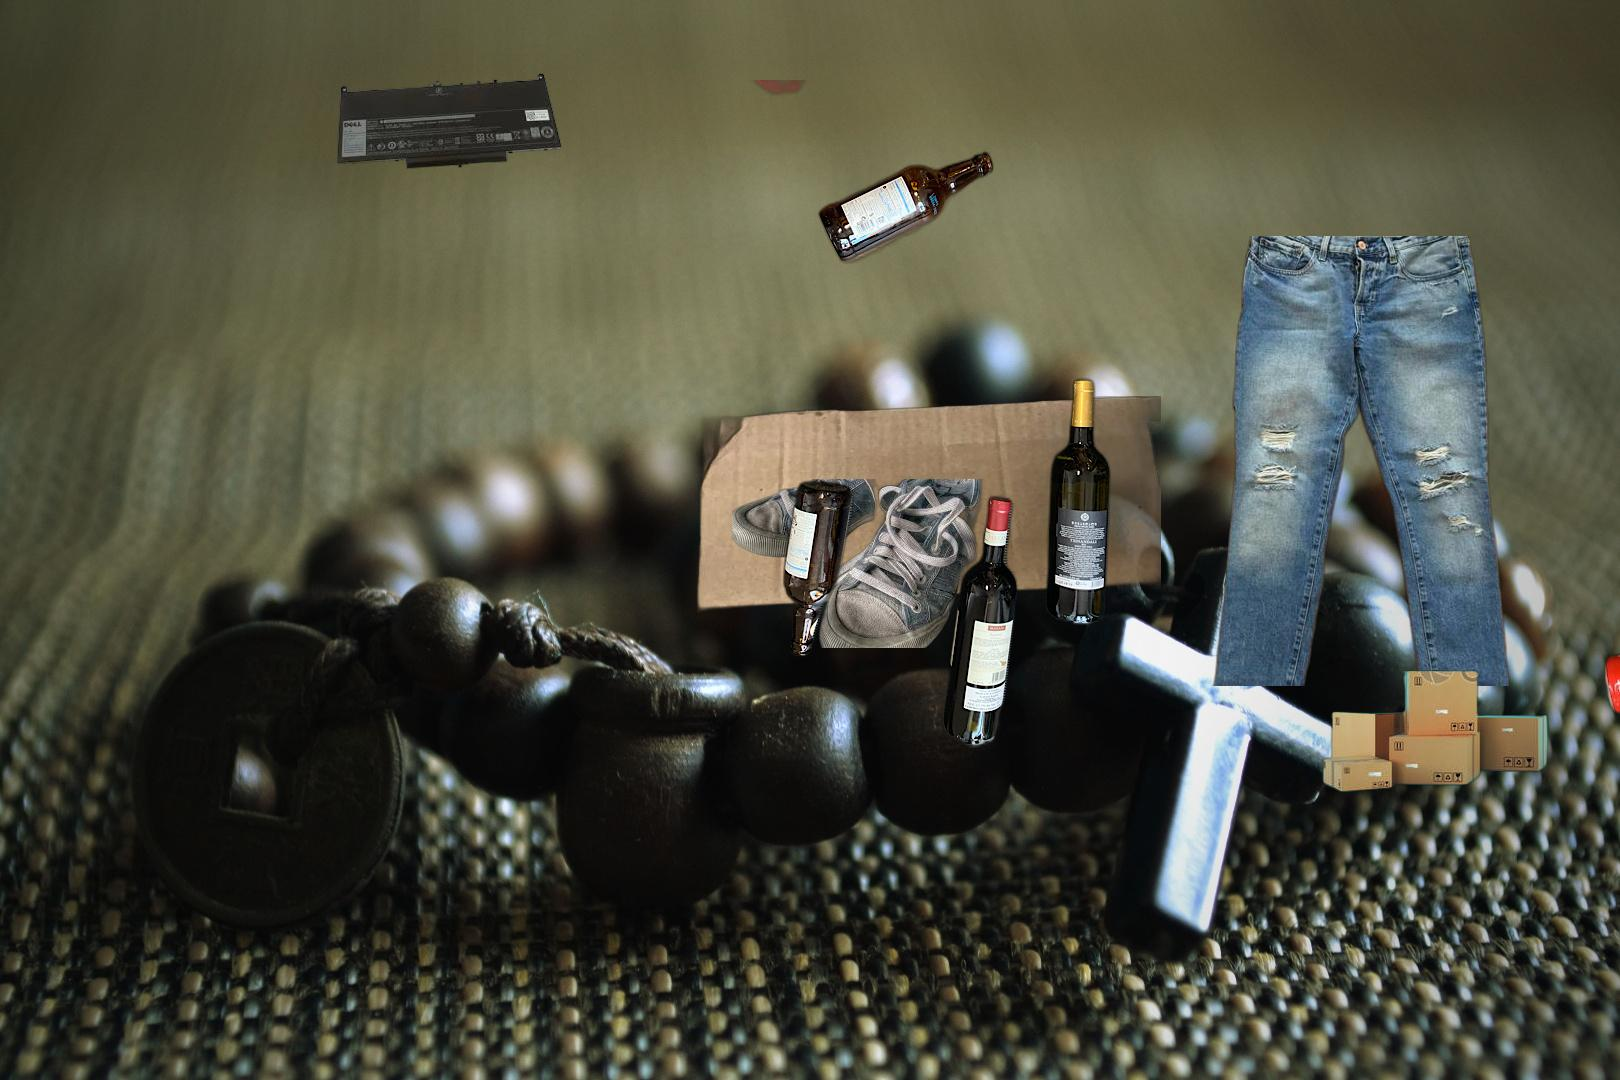battery: (337, 71, 562, 171)
clothes: (1160, 236, 1513, 686)
glass: (742, 80, 1115, 755)
metal-cans: (1601, 623, 1620, 721)
shoes: (732, 479, 986, 648)
trashbox-cardboard: (692, 397, 1161, 780), (1037, 941, 1620, 1080), (1317, 661, 1620, 794)
